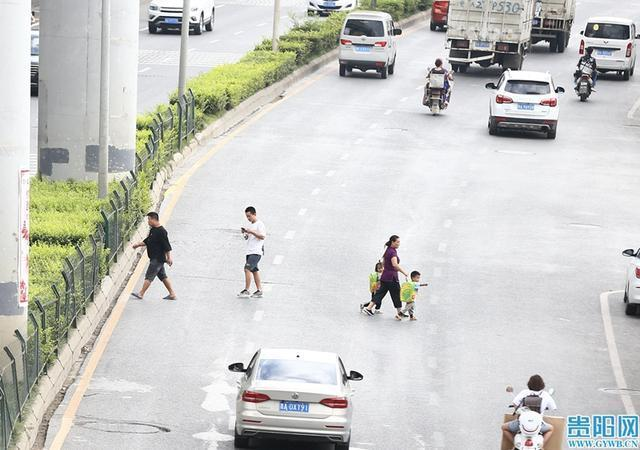car: (227, 347, 364, 450), (483, 69, 567, 139), (337, 10, 404, 79), (576, 15, 640, 81), (146, 0, 216, 35), (622, 248, 640, 316), (307, 0, 358, 17)
motorcycle: (422, 80, 450, 116), (574, 73, 596, 103)
person: (500, 373, 559, 450), (128, 212, 177, 302), (362, 235, 409, 320), (238, 206, 268, 297), (505, 409, 552, 450), (423, 58, 455, 110), (399, 269, 429, 321), (572, 48, 599, 94), (362, 261, 383, 313)
truck: (442, 0, 537, 73), (530, 0, 576, 53), (430, 1, 450, 32)
